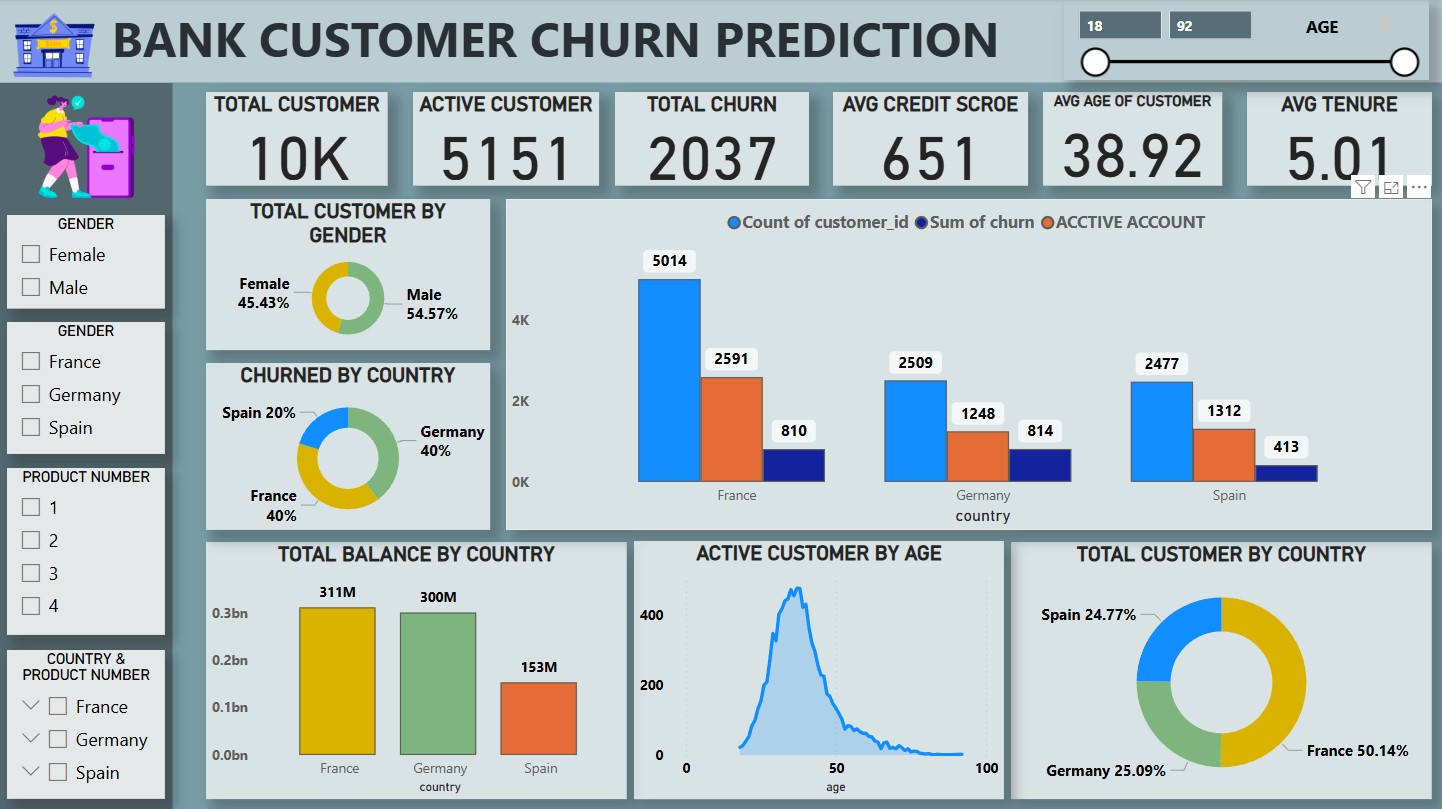

The dashboard page shown, as its layout file describes it:
{"tool":"powerbi","page":{"name":"Page 1","canvas":[1280,720],"ordinal":0},"visuals":[{"type":"textbox","box":[0,0,1280.4,74.5],"z":0},{"type":"textbox","box":[0,74.5,152.5,645.5],"z":1000},{"type":"card","title":"TOTAL CUSTOMER","fields":{"Values":["Count(Bank Customer Churn Prediction.customer_id)"]},"box":[182.7,82.5,161.4,83.3],"z":2000},{"type":"card","title":"ACTIVE CUSTOMER","fields":{"Values":["Bank Customer Churn Prediction.ACCTIVE ACCOUNT"]},"box":[366.2,82.5,164.9,83.3],"z":3000},{"type":"card","title":"TOTAL CHURN","fields":{"Values":["Sum(Bank Customer Churn Prediction.churn)"]},"box":[545.3,82.5,172,83.3],"z":4000},{"type":"card","title":"AVG CREDIT SCROE","fields":{"Values":["Avg(Bank Customer Churn Prediction.credit_score)"]},"box":[738.6,82.5,172.9,83.3],"z":5000},{"type":"card","title":"AVG AGE OF CUSTOMER","fields":{"Values":["Avg(Bank Customer Churn Prediction.age)"]},"box":[924.8,82.5,158.7,83.3],"z":6000},{"type":"card","title":"AVG TENURE ","fields":{"Values":["Avg(Bank Customer Churn Prediction.tenure)"]},"box":[1105.7,82.5,164,83.3],"z":7000},{"type":"image","box":[0,0,95.8,82.5],"z":8000},{"type":"donutChart","title":"TOTAL CUSTOMER BY GENDER","fields":{"Category":["Bank Customer Churn Prediction.gender"],"Y":["CountNonNull(Bank Customer Churn Prediction.customer_id)"]},"box":[182.7,177.3,251.8,133.9],"z":9000},{"type":"donutChart","title":"TOTAL CUSTOMER BY  COUNTRY","fields":{"Y":["CountNonNull(Bank Customer Churn Prediction.customer_id)"],"Category":["Bank Customer Churn Prediction.country"]},"box":[896.5,481.5,373.3,227.9],"z":10000},{"type":"columnChart","title":"TOTAL BALANCE BY COUNTRY","fields":{"Category":["Bank Customer Churn Prediction.country"],"Y":["Sum(Bank Customer Churn Prediction.balance)"]},"box":[182.7,481.5,373.3,227.9],"z":11000},{"type":"donutChart","title":"CHURNED BY COUNTRY","fields":{"Y":["Sum(Bank Customer Churn Prediction.churn)"],"Category":["Bank Customer Churn Prediction.country"]},"box":[182.7,322.8,251.8,148.1],"z":12000},{"type":"lineClusteredColumnComboChart","fields":{"Category":["Bank Customer Churn Prediction.country"],"Y":["Count(Bank Customer Churn Prediction.customer_id)","Sum(Bank Customer Churn Prediction.churn)","Bank Customer Churn Prediction.ACCTIVE ACCOUNT"]},"box":[448.7,177.3,821.1,293.5],"z":13000},{"type":"lineChart","title":"ACTIVE CUSTOMER BY AGE","fields":{"Category":["Bank Customer Churn Prediction.age"],"Y":["CountNonNull(Bank Customer Churn Prediction.active_member)"]},"box":[562.2,480.6,328.1,228.8],"z":14000},{"type":"slicer","title":"AGE","fields":{"Values":["Bank Customer Churn Prediction.age"]},"box":[943.4,0,323.6,72],"z":15000},{"type":"slicer","title":"GENDER","fields":{"Values":["Bank Customer Churn Prediction.gender"]},"box":[6.2,191.5,140.1,83.3],"z":16000},{"type":"slicer","title":"GENDER","fields":{"Values":["Bank Customer Churn Prediction.country"]},"box":[6.2,286.4,140.1,117],"z":17000},{"type":"textbox","box":[1114.6,8.9,123.3,27.5],"z":18000},{"type":"slicer","title":"PRODUCT NUMBER","fields":{"Values":["Bank Customer Churn Prediction.products_number"]},"box":[6.2,415.9,140.1,148.1],"z":18001},{"type":"slicer","title":"COUNTRY & PRODUCT NUMBER","fields":{"Values":["Bank Customer Churn Prediction.country","Bank Customer Churn Prediction.products_number"]},"box":[6.2,577.2,140.1,132.1],"z":18002},{"type":"image","box":[21.3,71.8,110,117],"z":18003}]}

Visuals, with their boxes in screenshot pixels (x1, y1, x2, y2), scaled from the page's 1280x720 canvas onto the 1442x809 screenshot:
textbox: bbox(0, 0, 1441, 84)
textbox: bbox(0, 84, 172, 808)
"TOTAL CUSTOMER" card: bbox(206, 93, 388, 186)
"ACTIVE CUSTOMER" card: bbox(413, 93, 598, 186)
"TOTAL CHURN" card: bbox(614, 93, 808, 186)
"AVG CREDIT SCROE" card: bbox(832, 93, 1027, 186)
"AVG AGE OF CUSTOMER" card: bbox(1042, 93, 1221, 186)
"AVG TENURE " card: bbox(1246, 93, 1430, 186)
image: bbox(0, 0, 108, 93)
"TOTAL CUSTOMER BY GENDER" donutChart: bbox(206, 199, 489, 350)
"TOTAL CUSTOMER BY  COUNTRY" donutChart: bbox(1010, 541, 1431, 797)
"TOTAL BALANCE BY COUNTRY" columnChart: bbox(206, 541, 626, 797)
"CHURNED BY COUNTRY" donutChart: bbox(206, 363, 489, 529)
lineClusteredColumnComboChart - Bank Customer Churn Prediction.country x Count(Bank Customer Churn Prediction.customer_id): bbox(505, 199, 1431, 529)
"ACTIVE CUSTOMER BY AGE" lineChart: bbox(633, 540, 1003, 797)
"AGE" slicer: bbox(1063, 0, 1427, 81)
"GENDER" slicer: bbox(7, 215, 165, 309)
"GENDER" slicer: bbox(7, 322, 165, 453)
textbox: bbox(1256, 10, 1395, 41)
"PRODUCT NUMBER" slicer: bbox(7, 467, 165, 634)
"COUNTRY & PRODUCT NUMBER" slicer: bbox(7, 649, 165, 797)
image: bbox(24, 81, 148, 212)
